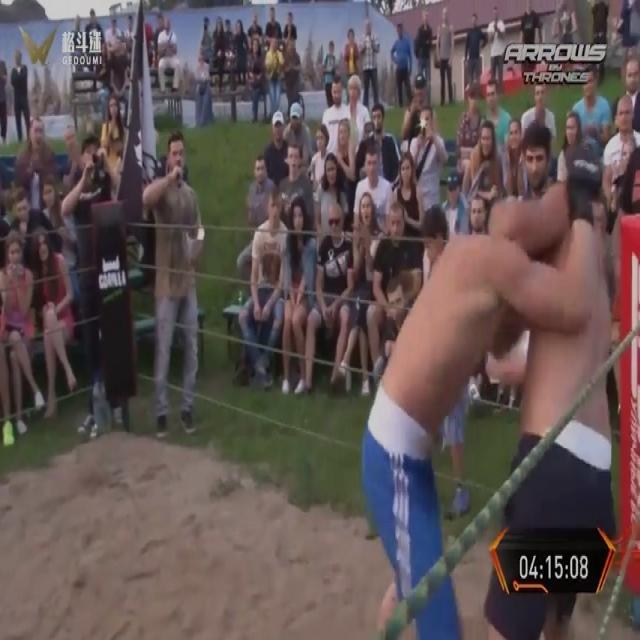fight: (358, 169, 616, 640)
non-fight: (144, 134, 204, 445), (60, 139, 120, 441), (415, 205, 465, 512), (604, 96, 640, 424), (240, 186, 288, 388), (1, 233, 44, 433), (308, 203, 352, 396), (369, 204, 412, 400), (338, 200, 381, 392), (34, 228, 78, 415), (458, 193, 494, 401), (280, 199, 317, 396), (61, 134, 113, 238), (55, 176, 86, 312), (410, 111, 448, 215), (15, 117, 59, 206), (353, 146, 392, 238), (278, 142, 315, 236), (15, 184, 60, 259), (570, 70, 611, 150), (315, 152, 349, 246), (466, 120, 504, 204), (360, 103, 398, 186), (518, 120, 556, 202), (392, 153, 423, 248), (321, 76, 355, 159), (521, 73, 558, 149), (483, 79, 512, 170), (419, 205, 448, 294), (456, 82, 482, 180), (342, 73, 371, 158), (332, 121, 357, 216), (246, 155, 276, 232), (282, 98, 312, 172), (263, 111, 290, 190), (501, 119, 527, 201), (614, 57, 640, 139), (359, 19, 382, 109), (556, 114, 585, 184), (100, 97, 126, 175), (434, 7, 455, 103), (106, 42, 130, 124), (391, 21, 413, 109), (156, 16, 180, 96), (401, 79, 428, 149), (441, 171, 469, 238), (10, 49, 30, 142), (464, 10, 486, 94), (520, 0, 542, 84), (193, 47, 215, 127), (308, 125, 330, 201), (247, 38, 267, 120), (414, 14, 434, 96), (266, 35, 286, 117), (488, 6, 508, 86), (590, 0, 609, 83), (283, 36, 301, 118), (342, 26, 362, 96), (616, 0, 640, 55), (551, 1, 578, 44), (232, 21, 249, 89), (467, 192, 490, 240), (211, 17, 226, 89), (85, 10, 104, 66), (69, 15, 84, 80), (198, 18, 212, 86), (322, 41, 337, 104), (105, 17, 123, 59), (223, 18, 235, 78), (0, 58, 8, 144), (264, 7, 282, 42), (282, 11, 298, 44), (247, 12, 263, 44)
